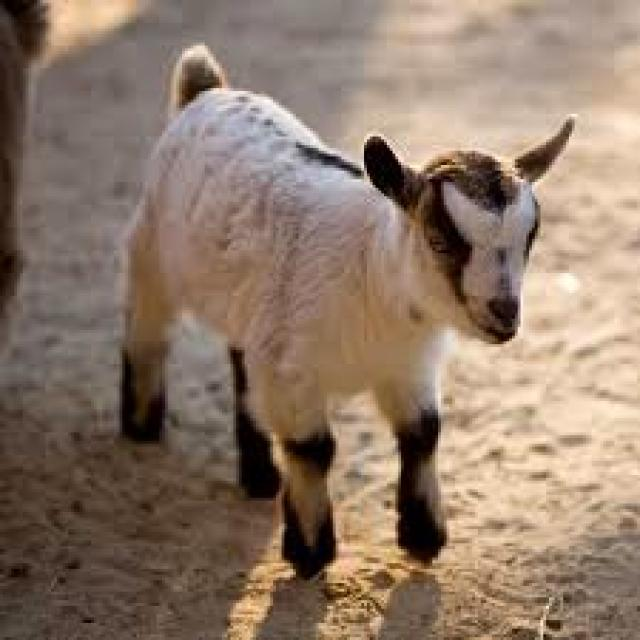goat: (122, 43, 572, 575)
